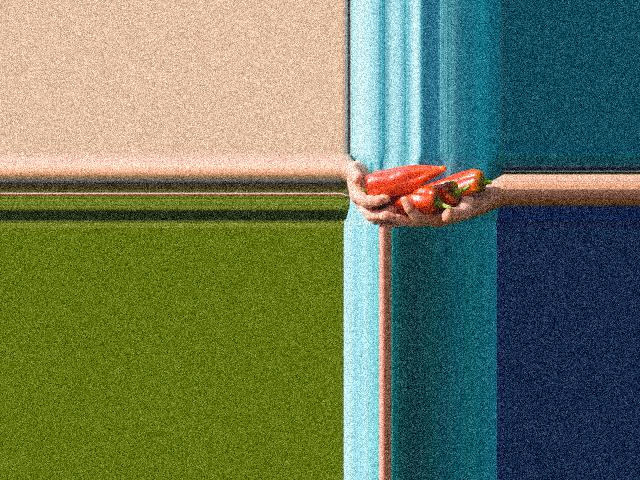bell_pepper: (439, 169, 492, 197)
